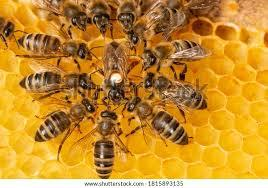worker-bee: (125, 96, 194, 150), (30, 91, 89, 151), (141, 68, 210, 113), (14, 28, 96, 58), (136, 36, 210, 68), (17, 67, 94, 96), (95, 106, 125, 178), (100, 39, 131, 102)
